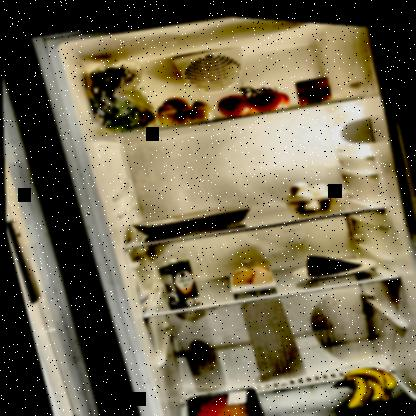banana: (325, 351, 405, 416)
beef: (177, 375, 270, 415)
cheese: (299, 238, 366, 278)
corn: (291, 67, 337, 107)
eggs: (228, 257, 275, 291)
heavy_cream: (154, 249, 203, 310)
mushrooms: (280, 164, 349, 217)
potato: (148, 84, 217, 129)
spinach: (80, 54, 161, 139)
tomato: (211, 61, 294, 119)
